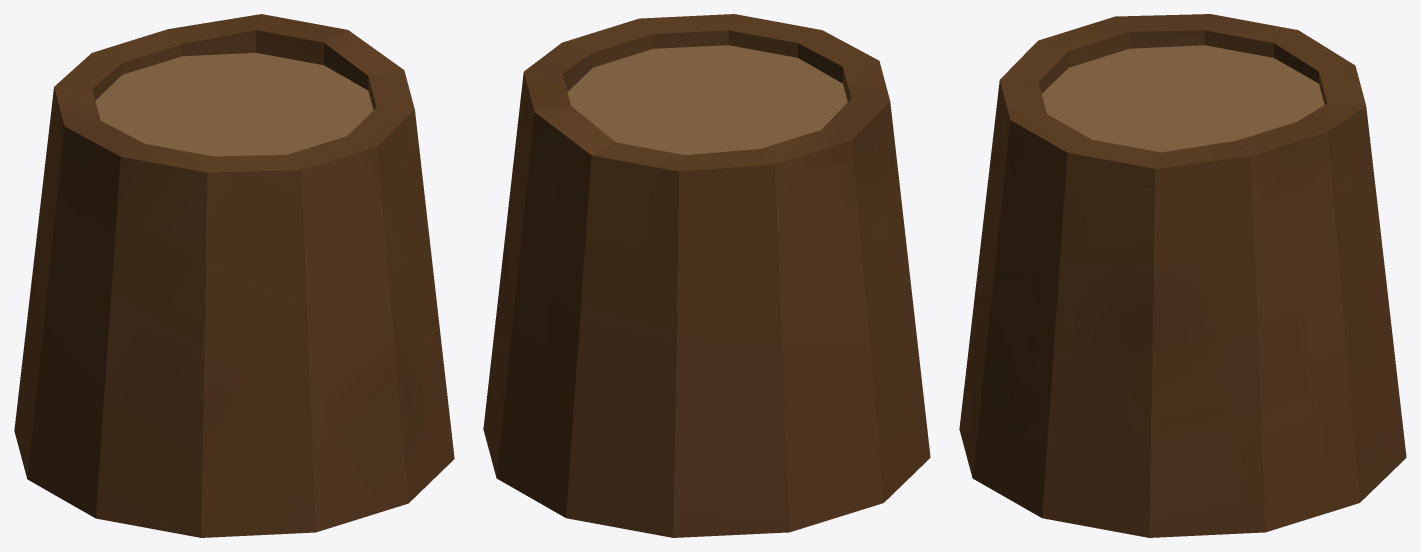
The model's file is Trunks4.gltf.
3 renders of one model, left to right at view 1: azimuth 30°, elevation 25°; view 2: azimuth 150°, elevation 25°; view 3: azimuth 270°, elevation 25°, orthographic.
Visible parts, largest first — view 1: Trunk1 - copy.006; view 2: Trunk1 - copy.006; view 3: Trunk1 - copy.006.
Boxes of the visible parts, left/top/right/bottom form: Trunk1 - copy.006: left=14, top=14, right=454, bottom=537; Trunk1 - copy.006: left=483, top=14, right=930, bottom=537; Trunk1 - copy.006: left=959, top=14, right=1406, bottom=537.
Size of the model in its own units: 0.5251 by 0.4667 by 0.5251.
1 material, 1 textured.
